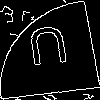U: (24, 24, 73, 76)
